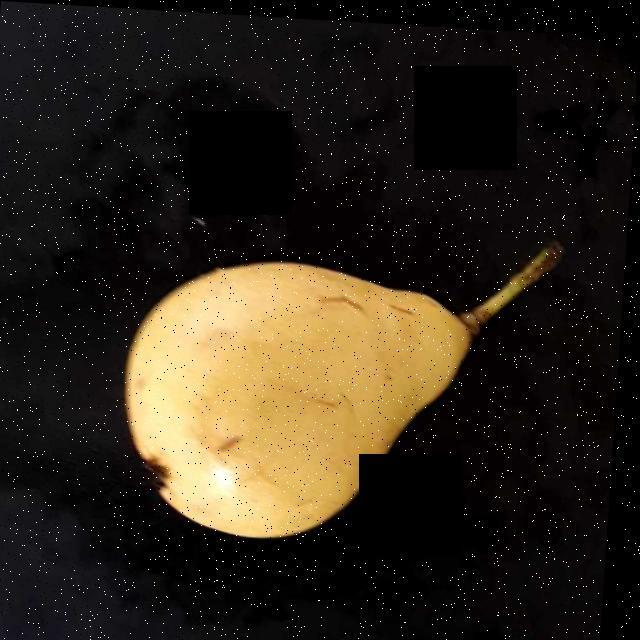pear: (132, 258, 509, 523)
